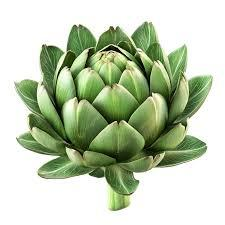non-mango: (13, 20, 212, 210)
